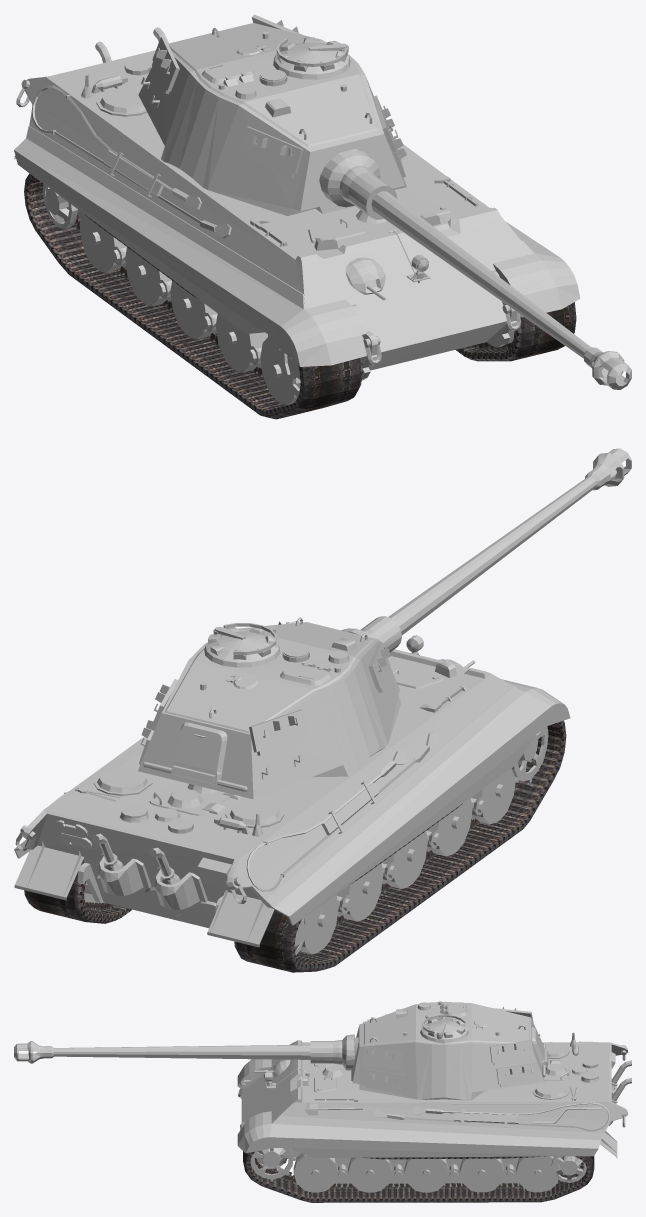
Rendered from tiger.fbx.
3 views of the same model, one above another, from view 1: azimuth 30°, elevation 25°; view 2: azimuth 150°, elevation 25°; view 3: azimuth 270°, elevation 25° (orthographic). The views are drawn at different scales.
Parts seen in each view (by area): view 1: default; view 2: default; view 3: default.
Part boxes in pixels (x1,y1,x2,y2): default: (14,14,631,419); default: (14,448,631,972); default: (14,1001,631,1202).
Size of the model in its own units: 3.76 by 3.12 by 11.63.
